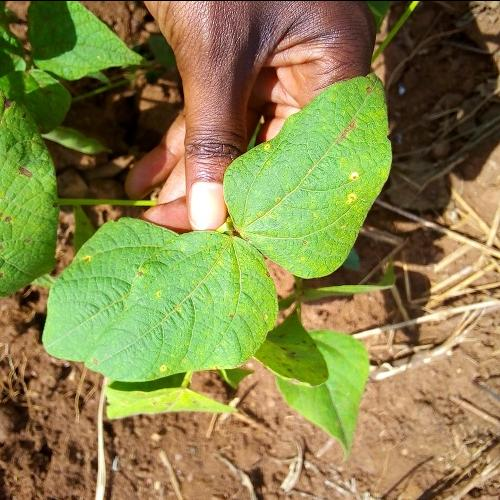hawar: (324, 117, 364, 148)
mozaik: (76, 262, 263, 348), (258, 110, 376, 239)
